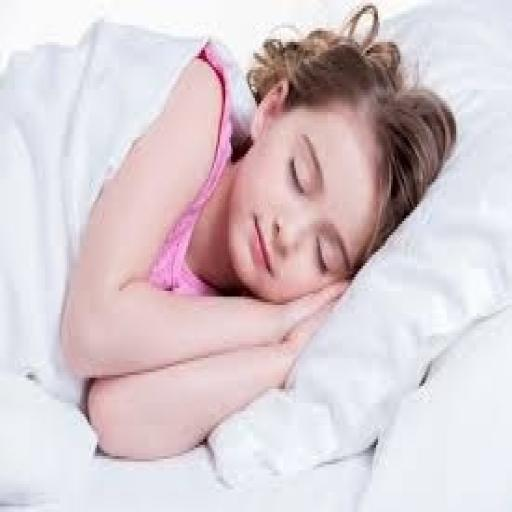sleeping: (0, 3, 458, 464)
